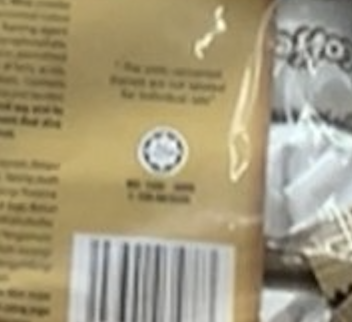halal: (147, 138, 177, 165)
